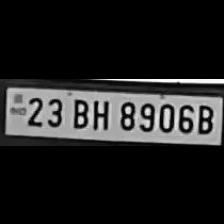0: (156, 100, 174, 132)
2: (22, 93, 44, 127)
3: (42, 93, 64, 127)
6: (176, 100, 194, 132)
8: (115, 96, 135, 132)
9: (136, 97, 156, 131)
B: (67, 94, 89, 128), (194, 100, 214, 134)
H: (89, 95, 112, 129)
